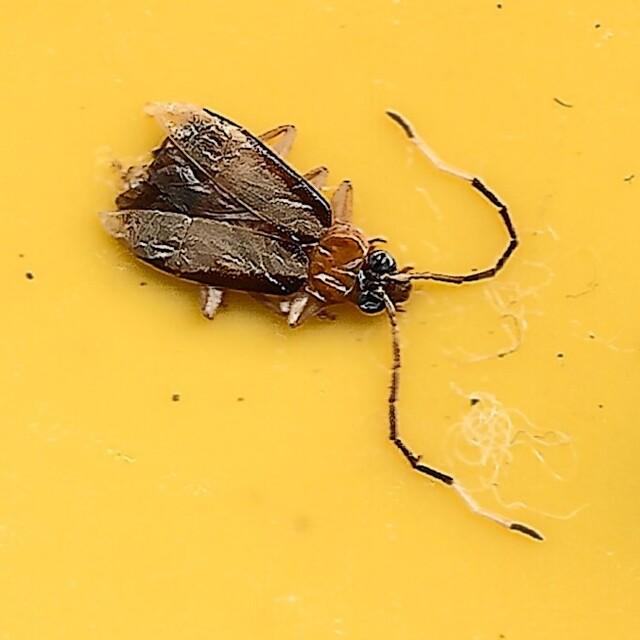Coleoptera: (95, 98, 545, 542)
